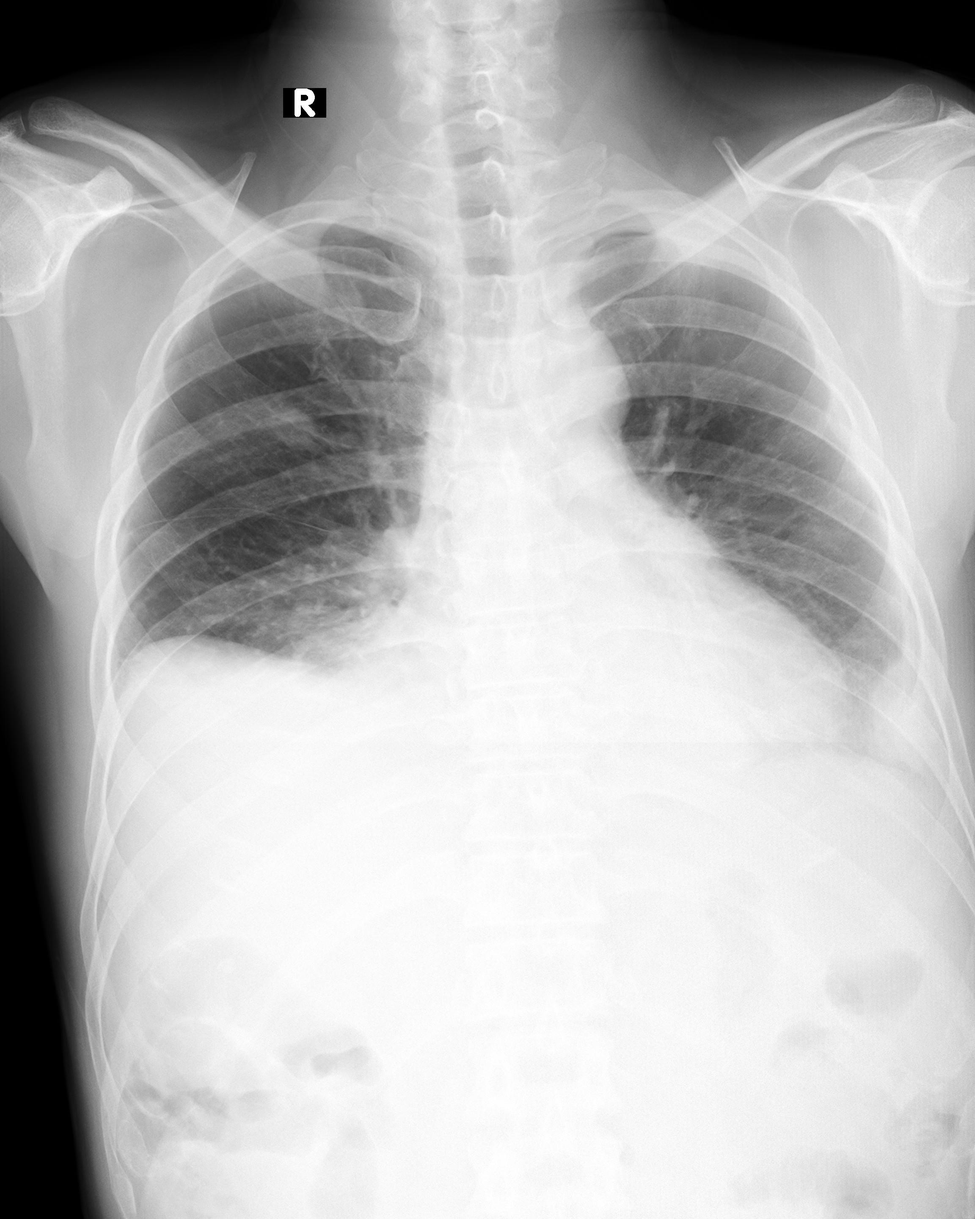Aortic enlargement: (516, 309, 625, 431)
Cardiomegaly: (365, 598, 843, 808)
